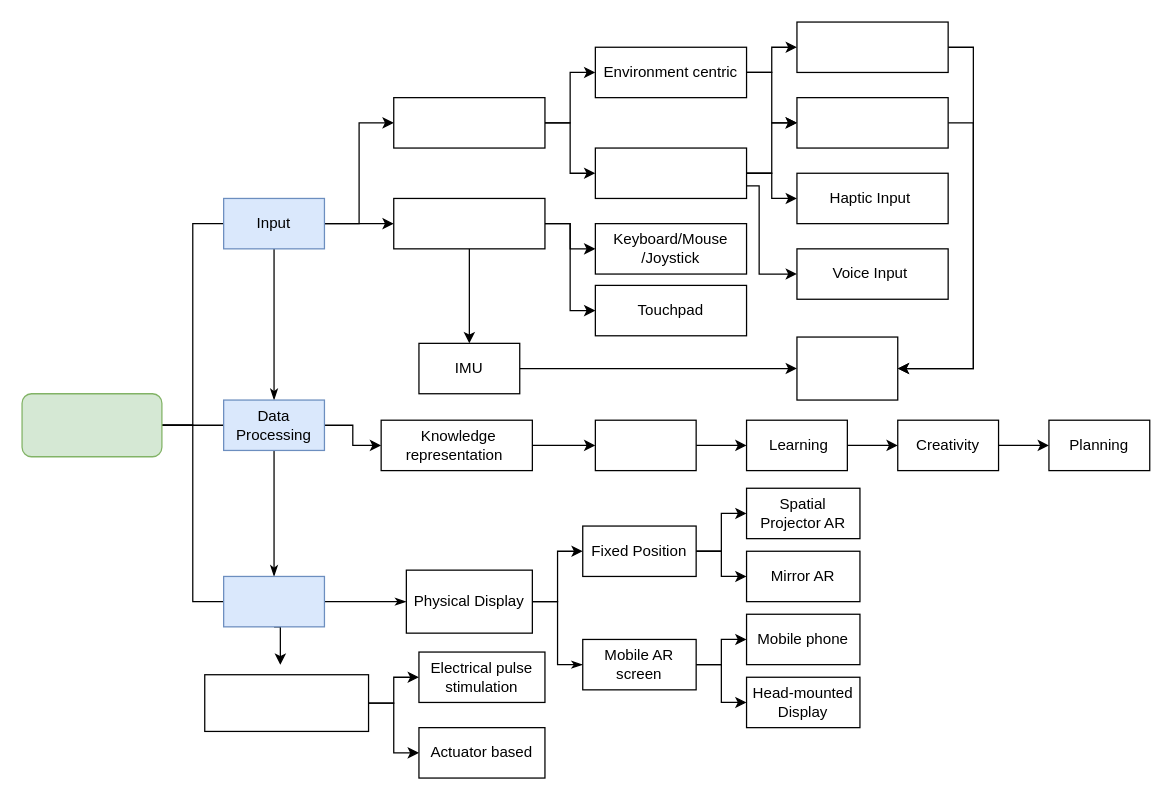
This 1172x800 diagram has some shape labels left out. Here are the shapes that lost their labels. From the top down, the centre of each, then its label:
(x=872, y=46): Depth Camera
(x=468, y=122): Sensing and perception
(x=872, y=122): Monocular RGB camera
(x=670, y=172): User centric
(x=468, y=223): Mechanical Input
(x=847, y=368): SLAM Position tracking
(x=91, y=424): Intelligent User Interfaces
(x=645, y=445): Reasoning
(x=273, y=601): Output
(x=286, y=702): Haptic Feedback
